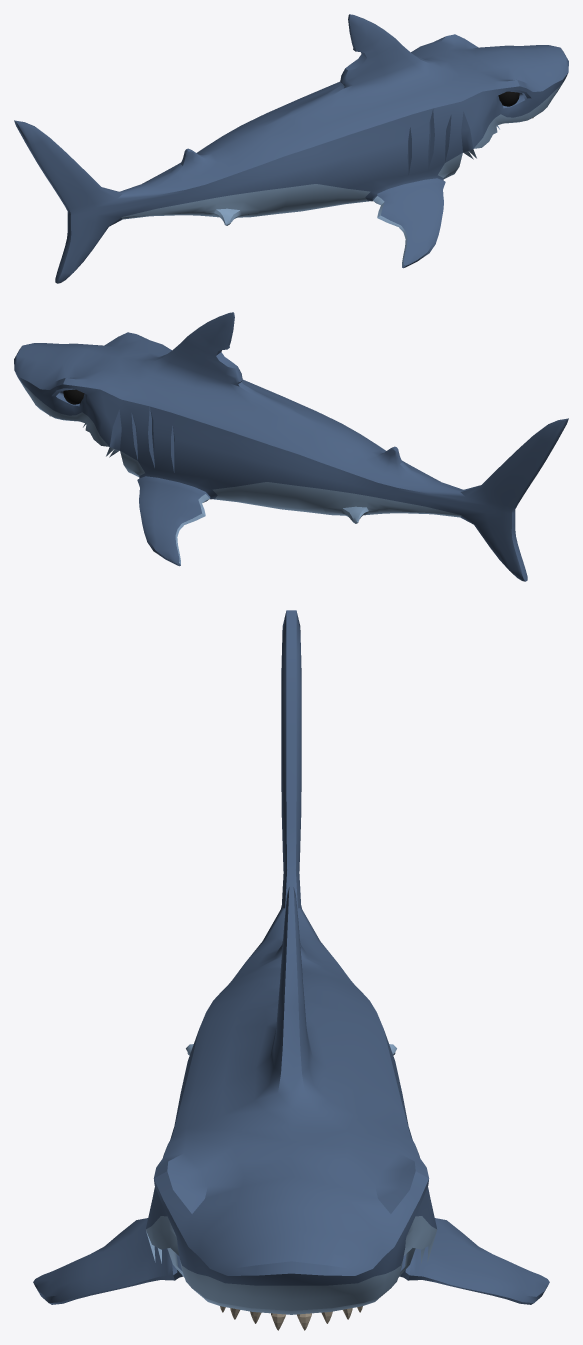
File: shark.obj
The picture shows the model from 3 angles, top to bottom: view 1: azimuth 30°, elevation 25°; view 2: azimuth 150°, elevation 25°; view 3: azimuth 270°, elevation 25°; orthographic projection. The views are drawn at different scales.
Bounding box in the file's own units: 6 × 2.14 × 2.45.
